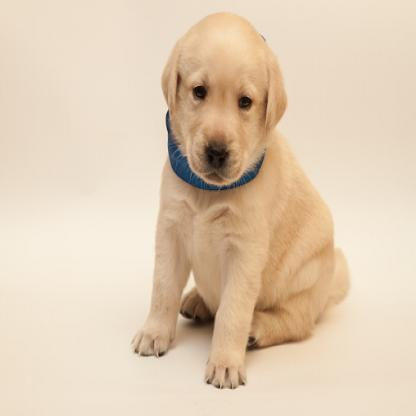Labarador Retriever: (132, 12, 352, 388)
